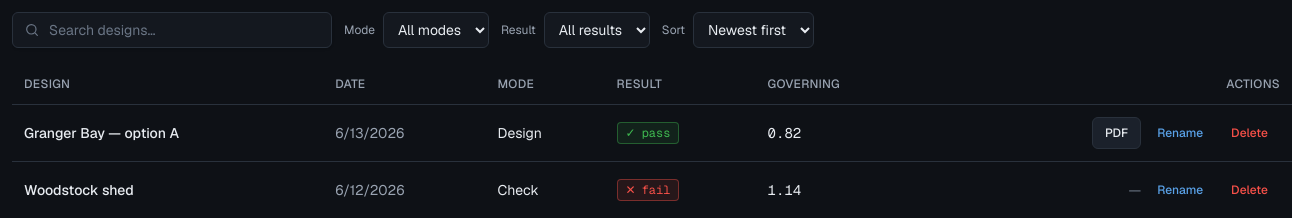
Scenario: DesignsManager › filters by result
The width and height of the screenshot is (1292, 218).
// Select the "Result" filter → Fail
Select "Fail" in the dropdown labelled "Result" at (597, 30), box [544,12,650,48]
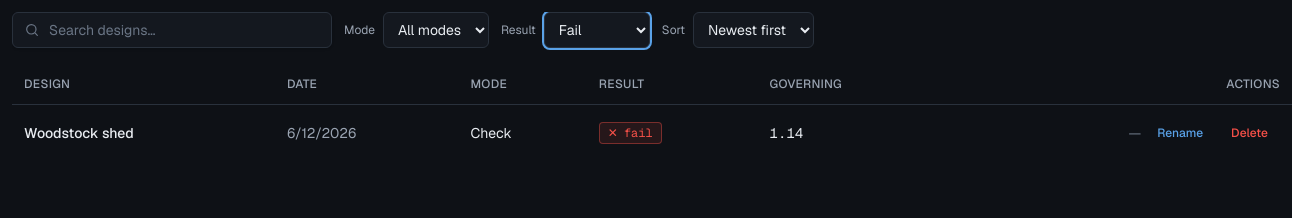
Expected: the text "Woodstock shed" is shown, [12,104,275,160]
Expected: the link "Granger Bay — option A" is gone
